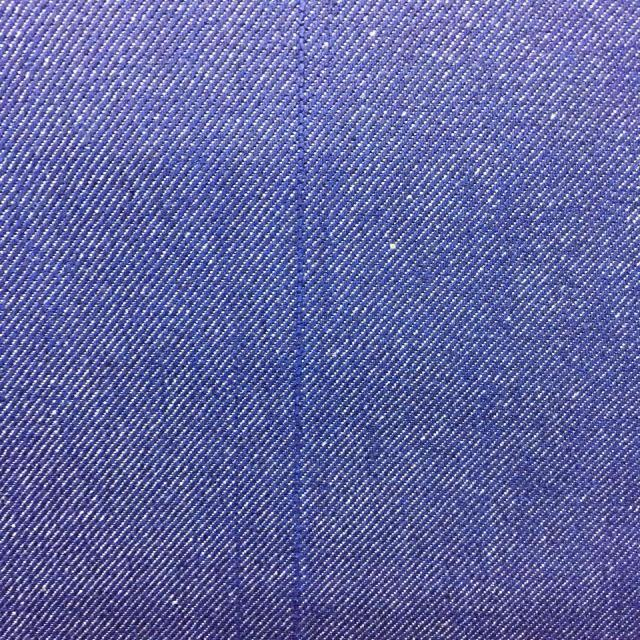Line: (288, 0, 310, 640), (227, 339, 245, 640)
